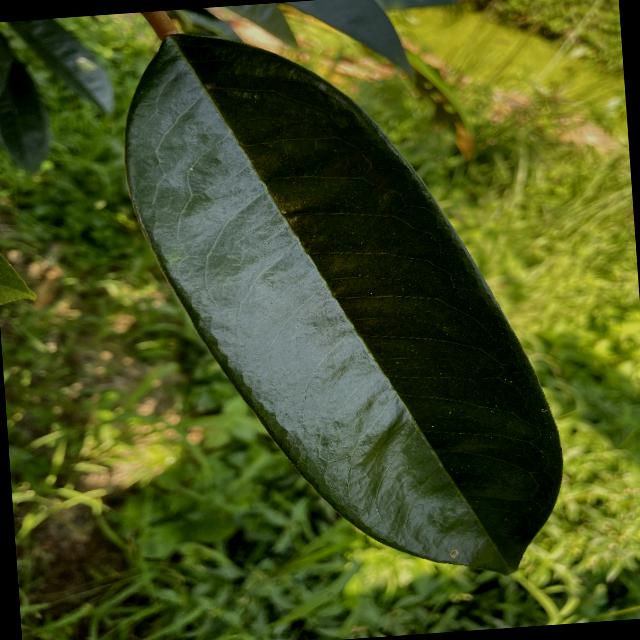No Disease: (110, 0, 585, 609)
